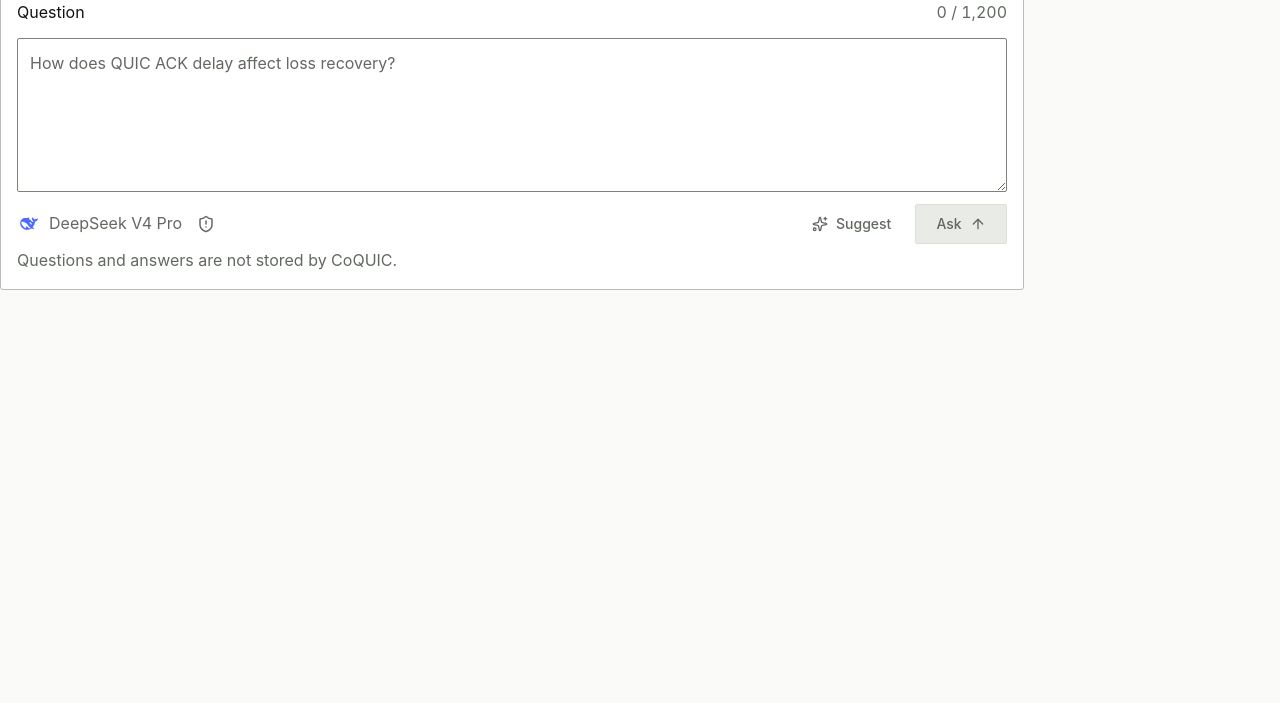
Test: QA stream and form contract › posts the exact stream contract, renders metrics and citations, and supports Ctrl+Enter
The image size is (1280, 703).
Type "How does ACK delay work?" into the text box labelled "Question" at coordinates (512, 115), box [17,38,1007,192]
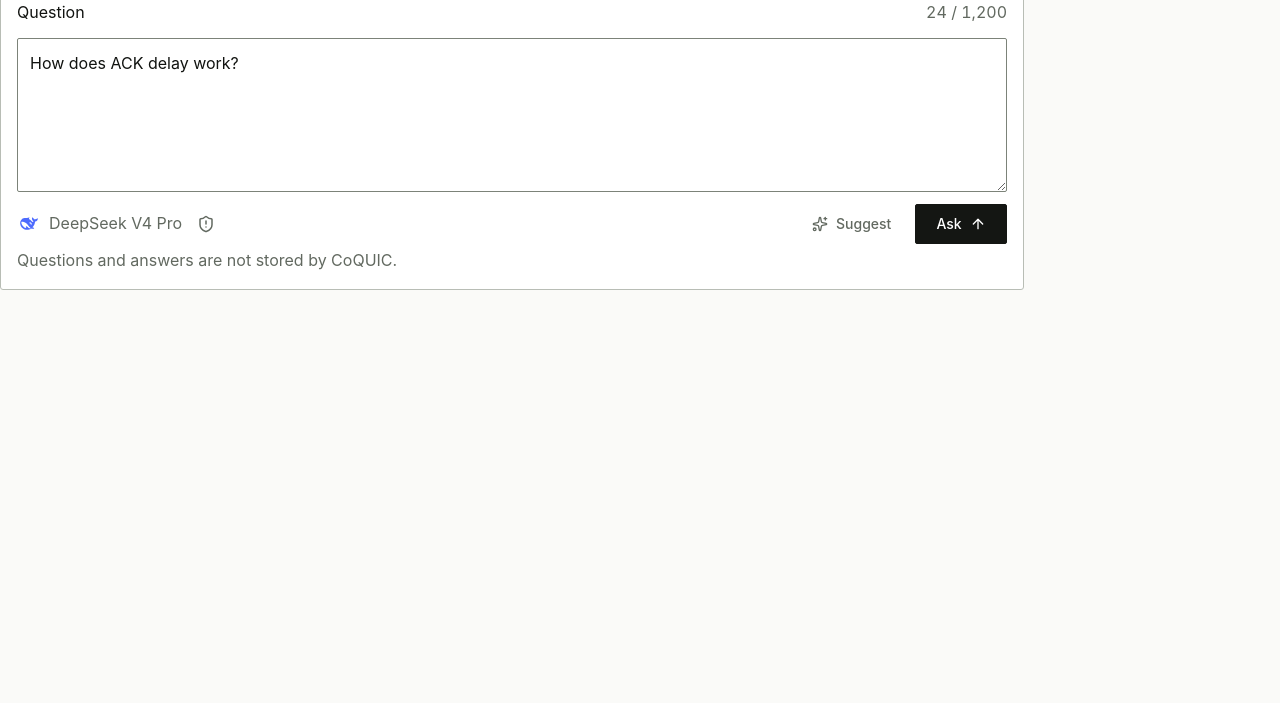
Press Enter in the text box labelled "Question", box [17,38,1007,192]
(page scrolled)
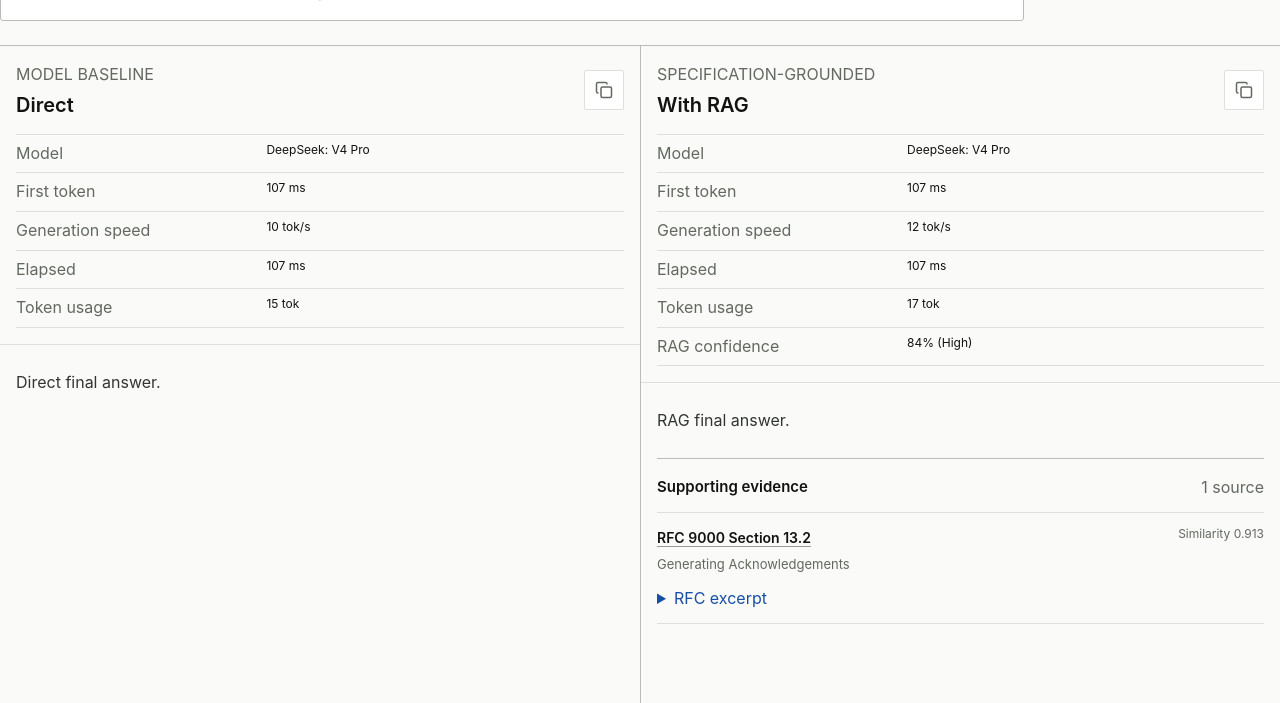
Now the text "Direct final answer." is shown, box [16,372,161,392]
Now the text "RAG final answer." is shown, box [657,410,790,430]
Now the text "15 tok" is shown, box [266,296,299,311]
